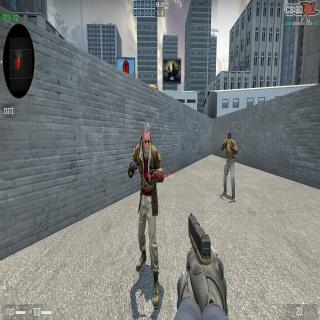T-Body: (128, 121, 165, 310), (221, 132, 238, 203)
T-Head: (142, 121, 151, 154), (228, 132, 232, 144)
